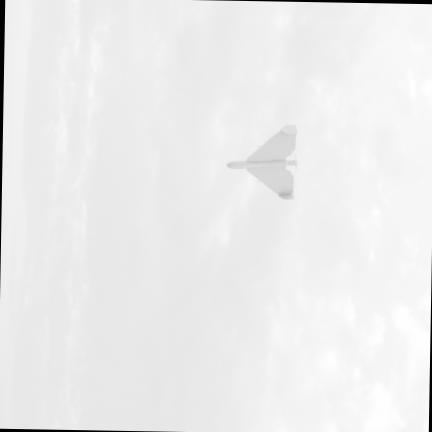Shahed: (226, 125, 296, 198)
